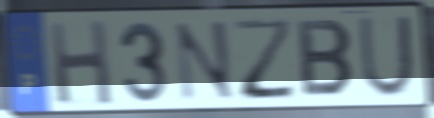3: (118, 19, 167, 105)
B: (295, 17, 357, 99)
H: (46, 17, 116, 109)
N: (173, 18, 237, 104)
U: (356, 13, 416, 100)
Z: (230, 16, 299, 103)
